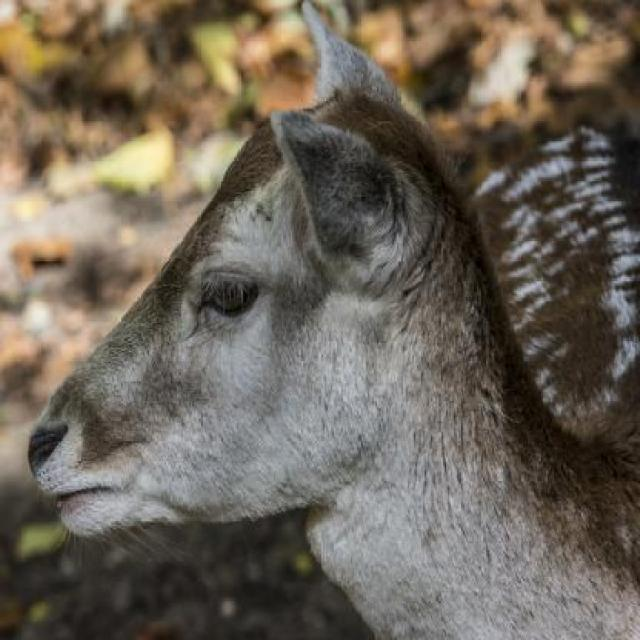Deer: (28, 0, 640, 640)
